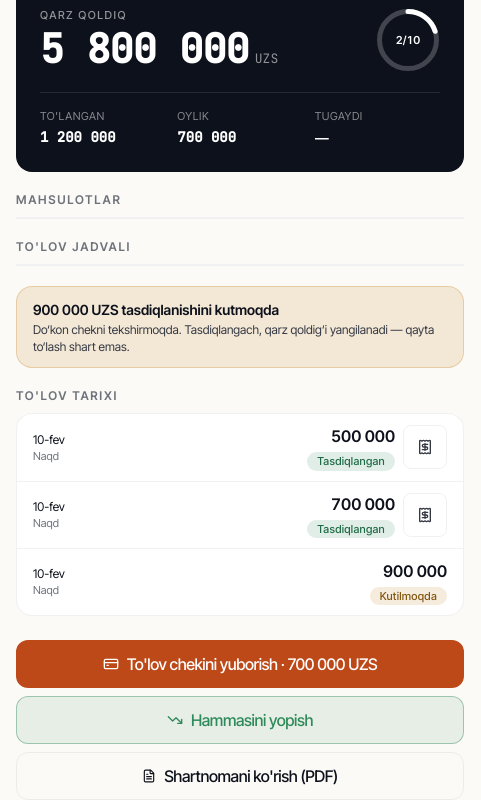
Test case: LX-01 · contract PDF › acknowledges the first tap before the request settles
(page scrolled)
Click the button "Shartnomani ko'rish (PDF)" at [240, 776], box [16,752,464,799]
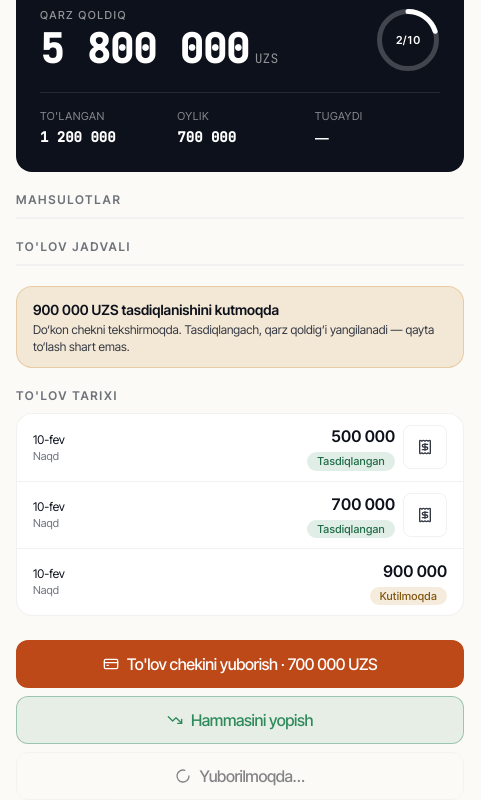
Expected: the button "Yuborilmoqda…" is disabled, [16,752,464,799]
Expected: the button "Yuborilmoqda…" is shown, [16,752,464,799]
